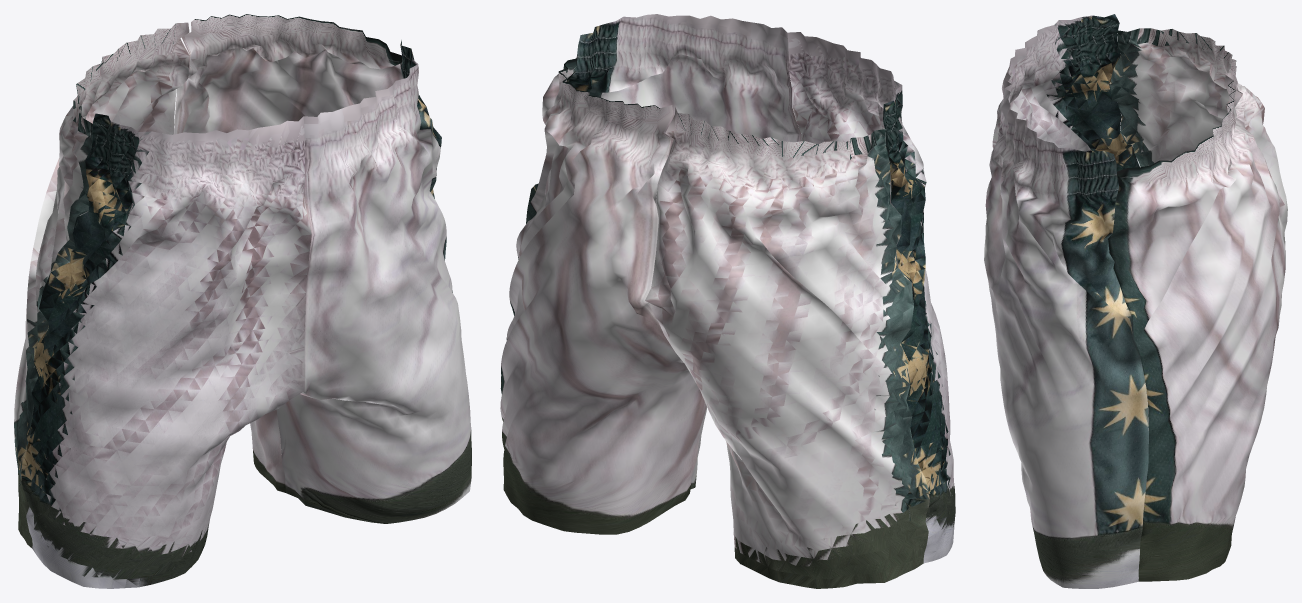
Rendered from jeans_M.glb.
3 renders of one model, left to right at view 1: azimuth 30°, elevation 25°; view 2: azimuth 150°, elevation 25°; view 3: azimuth 270°, elevation 25°, orthographic. The views are drawn at different scales.
Visible parts, largest first — view 1: Jeans; view 2: Jeans; view 3: Jeans.
Boxes of the visible parts, x1=… form: Jeans: x1=14, y1=14, x2=471, y2=588; Jeans: x1=500, y1=14, x2=955, y2=588; Jeans: x1=984, y1=14, x2=1287, y2=588.
Bounding box in the file's own units: 0.4238 × 0.435 × 0.2791.
Materials: 2 (2 with a texture image).
